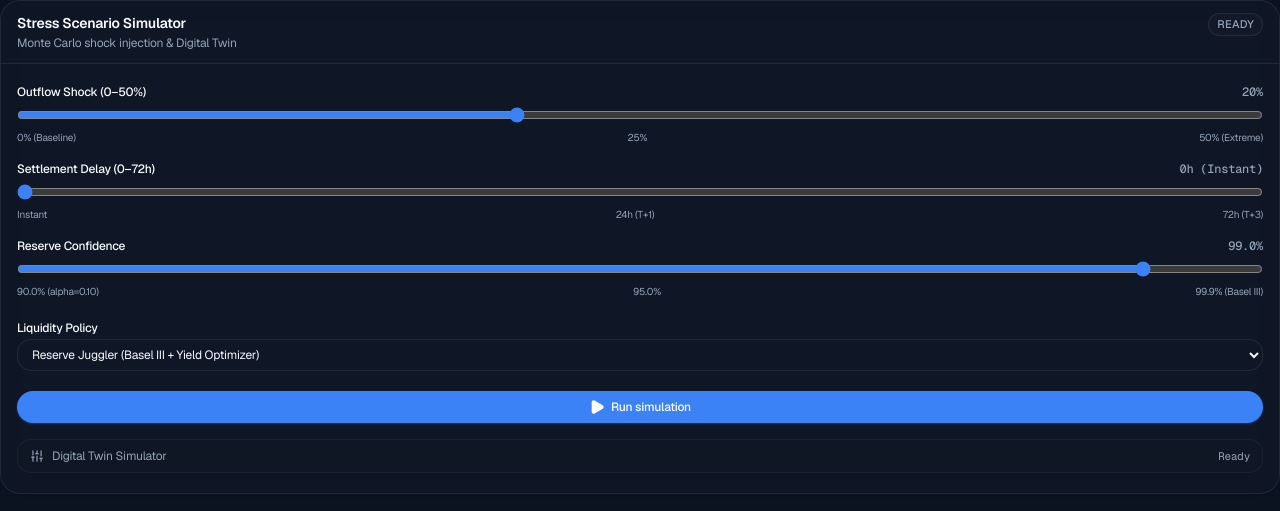
Scenario: StressSimulatorPanel (Phase 18) › allows analyst to adjust sliders and displays live readouts
This screenshot has width=1280, height=511.
Set the slider labelled "Outflow Shock (0–50%)" to "35" at coordinates (886, 115), box [17,107,1263,123]
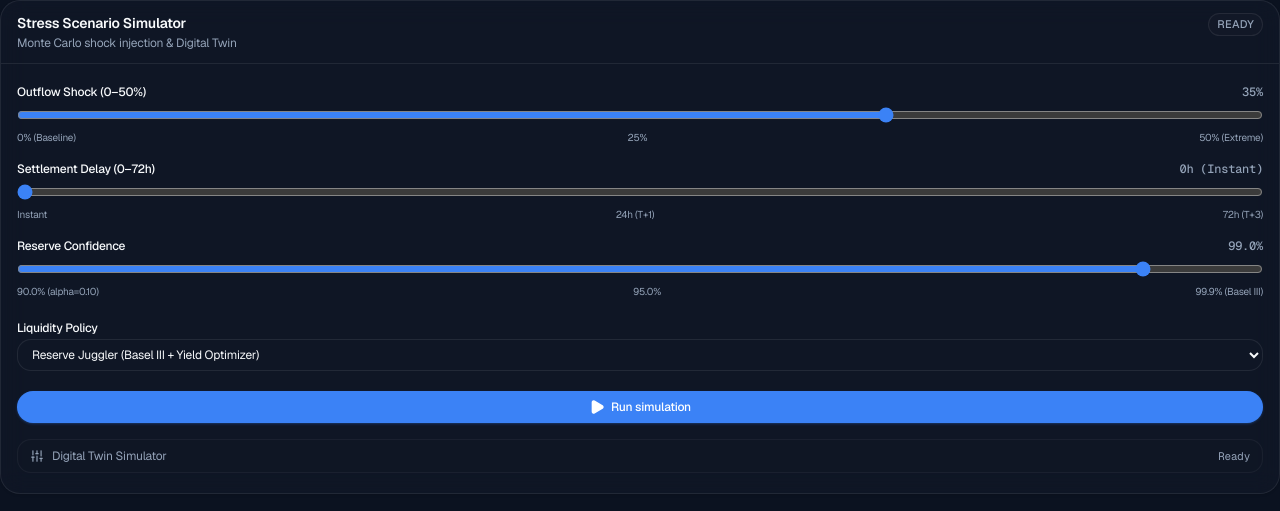
Check: the text with test id "outflow-shock-value" reads "35%", box [1242,84,1263,100]
Set the slider labelled "Settlement Delay (0–72h)" to "24" at coordinates (435, 192), box [17,184,1263,200]
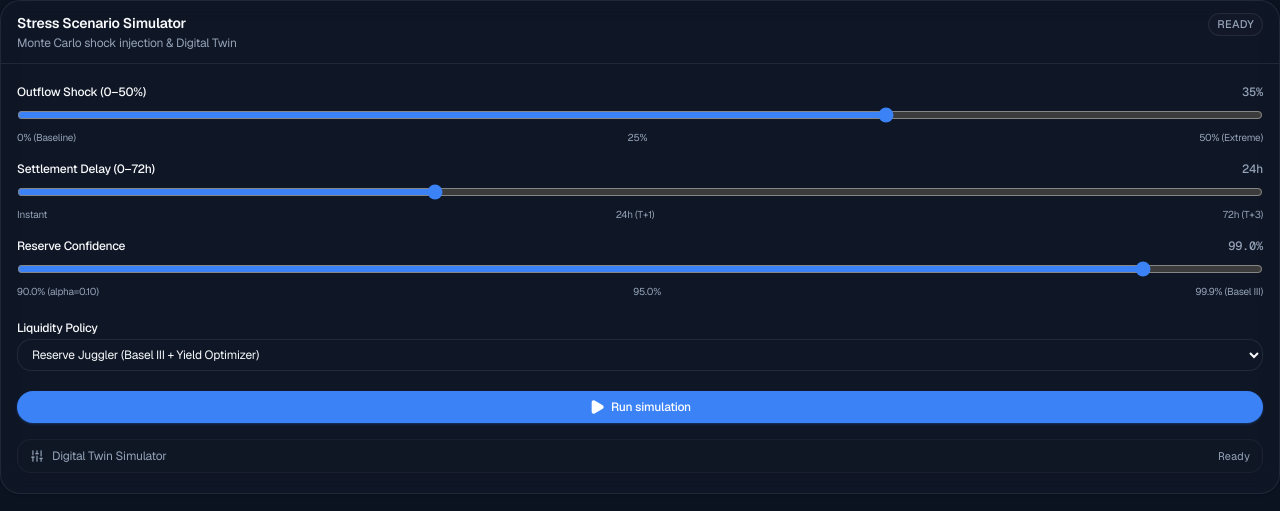
Check: the text with test id "settlement-delay-value" reads "24h", box [1242,161,1263,177]
